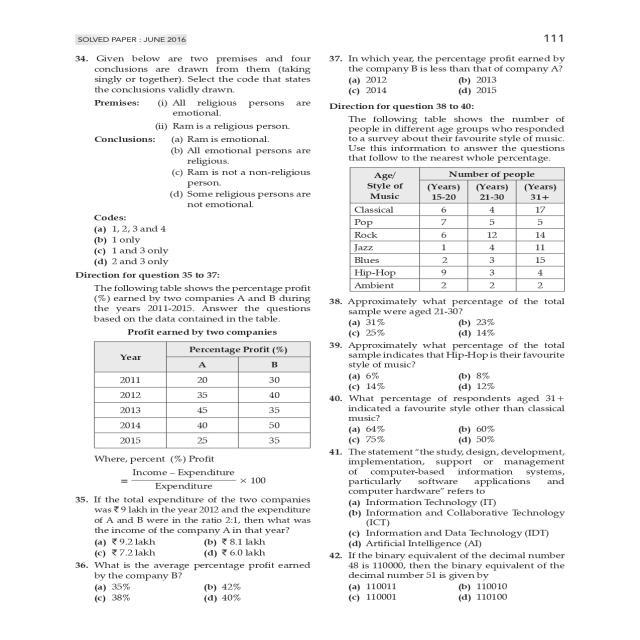Answer_Block: (325, 500, 576, 551), (56, 222, 326, 266), (56, 582, 326, 606), (56, 537, 326, 560), (325, 78, 576, 102), (325, 318, 576, 342), (325, 581, 576, 604), (325, 374, 576, 392), (325, 424, 576, 442)
Instruction: (56, 267, 326, 493), (325, 104, 576, 296)
Question_Answer_Block: (56, 52, 326, 266), (325, 446, 576, 552), (56, 494, 326, 560), (325, 552, 576, 604), (325, 342, 576, 392), (325, 51, 576, 101), (56, 560, 326, 605), (325, 394, 576, 442), (325, 296, 576, 342)
Question_Block: (56, 51, 326, 223), (325, 446, 576, 496), (56, 494, 326, 536), (325, 552, 576, 582), (325, 396, 576, 424), (325, 343, 576, 371), (56, 560, 326, 583), (325, 52, 576, 76), (325, 296, 576, 316)
Question_Paper_Area: (56, 51, 326, 605), (325, 51, 576, 605)
